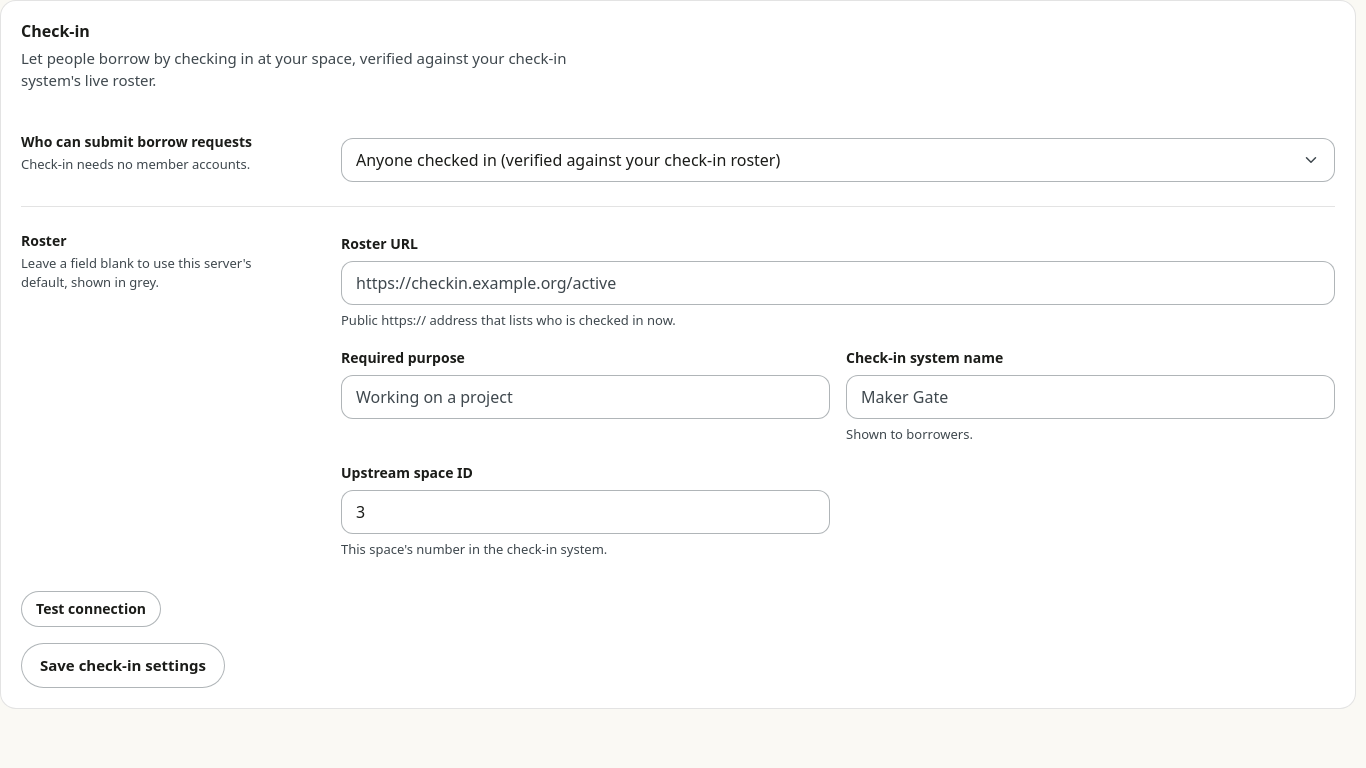
Test case: Check-in settings card › reports how many people the roster lists on success
Step 1. Click the 1st button named "Test connection" → click(91, 609), box [21,591,161,627]
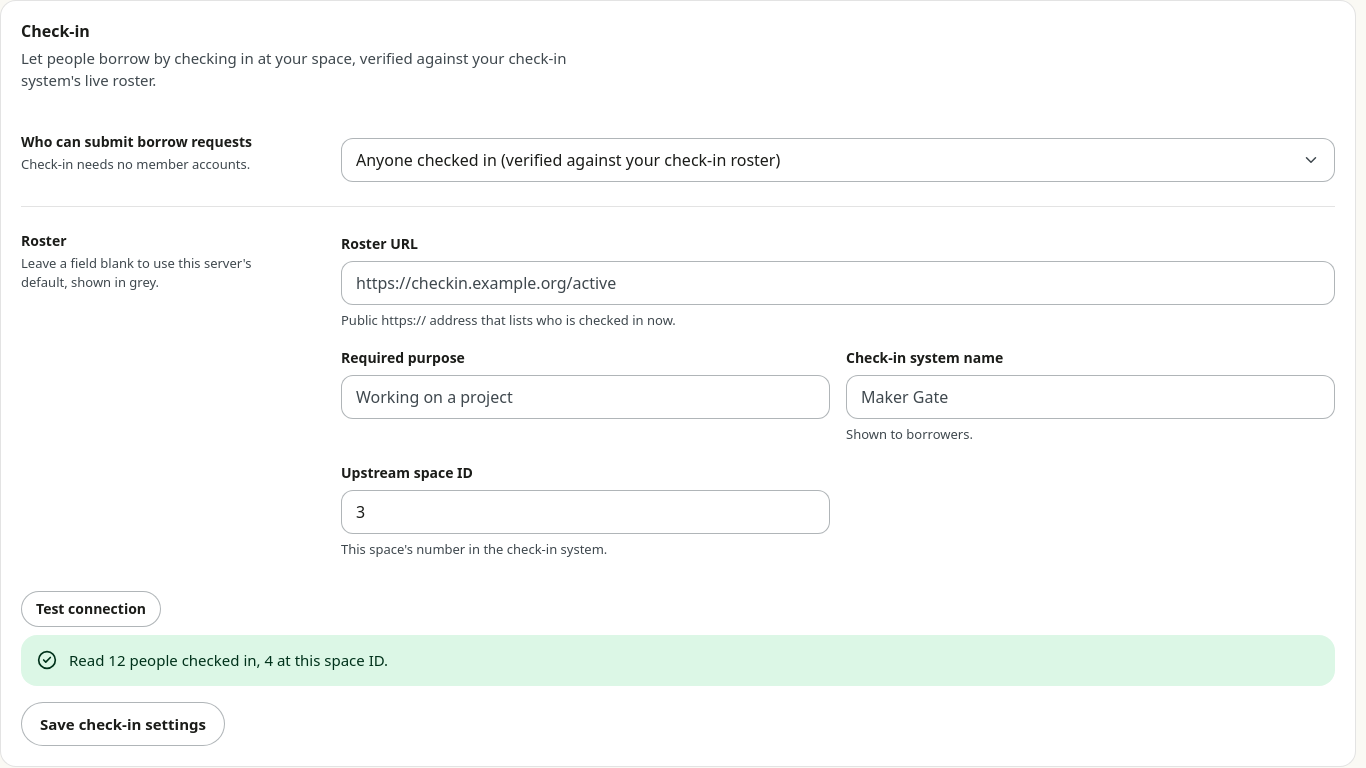
Expected: the text "Read 12 people checked in, 4 at this space ID." is shown, [69,650,388,670]
